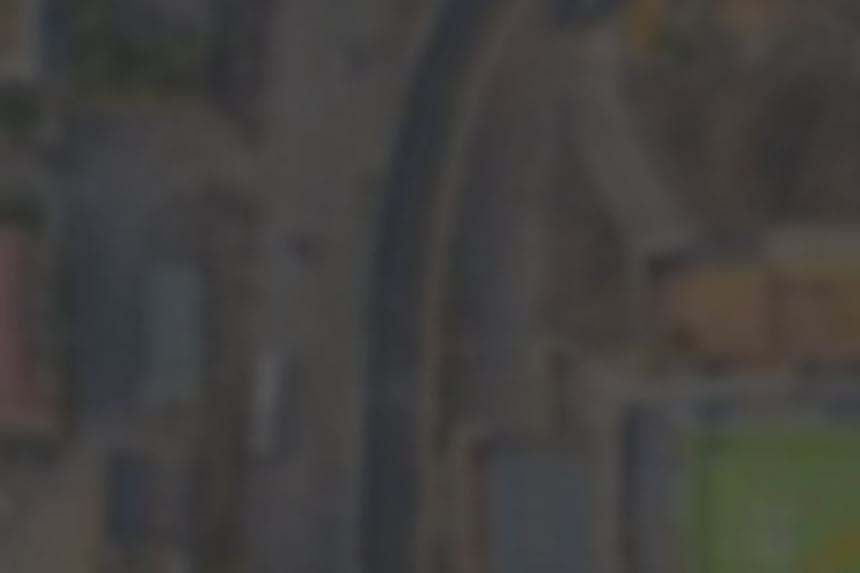Apron: (767, 486, 860, 573)
